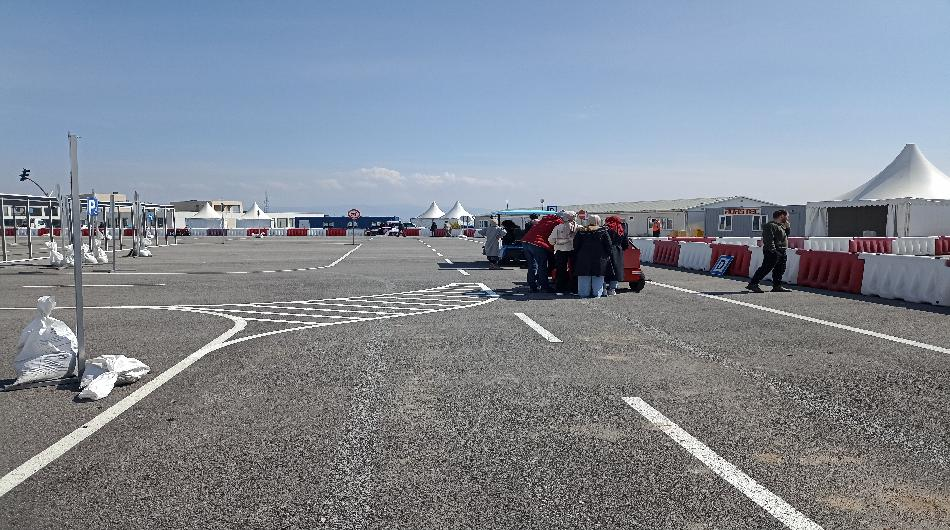yol_calismasi: (238, 281, 527, 352)
